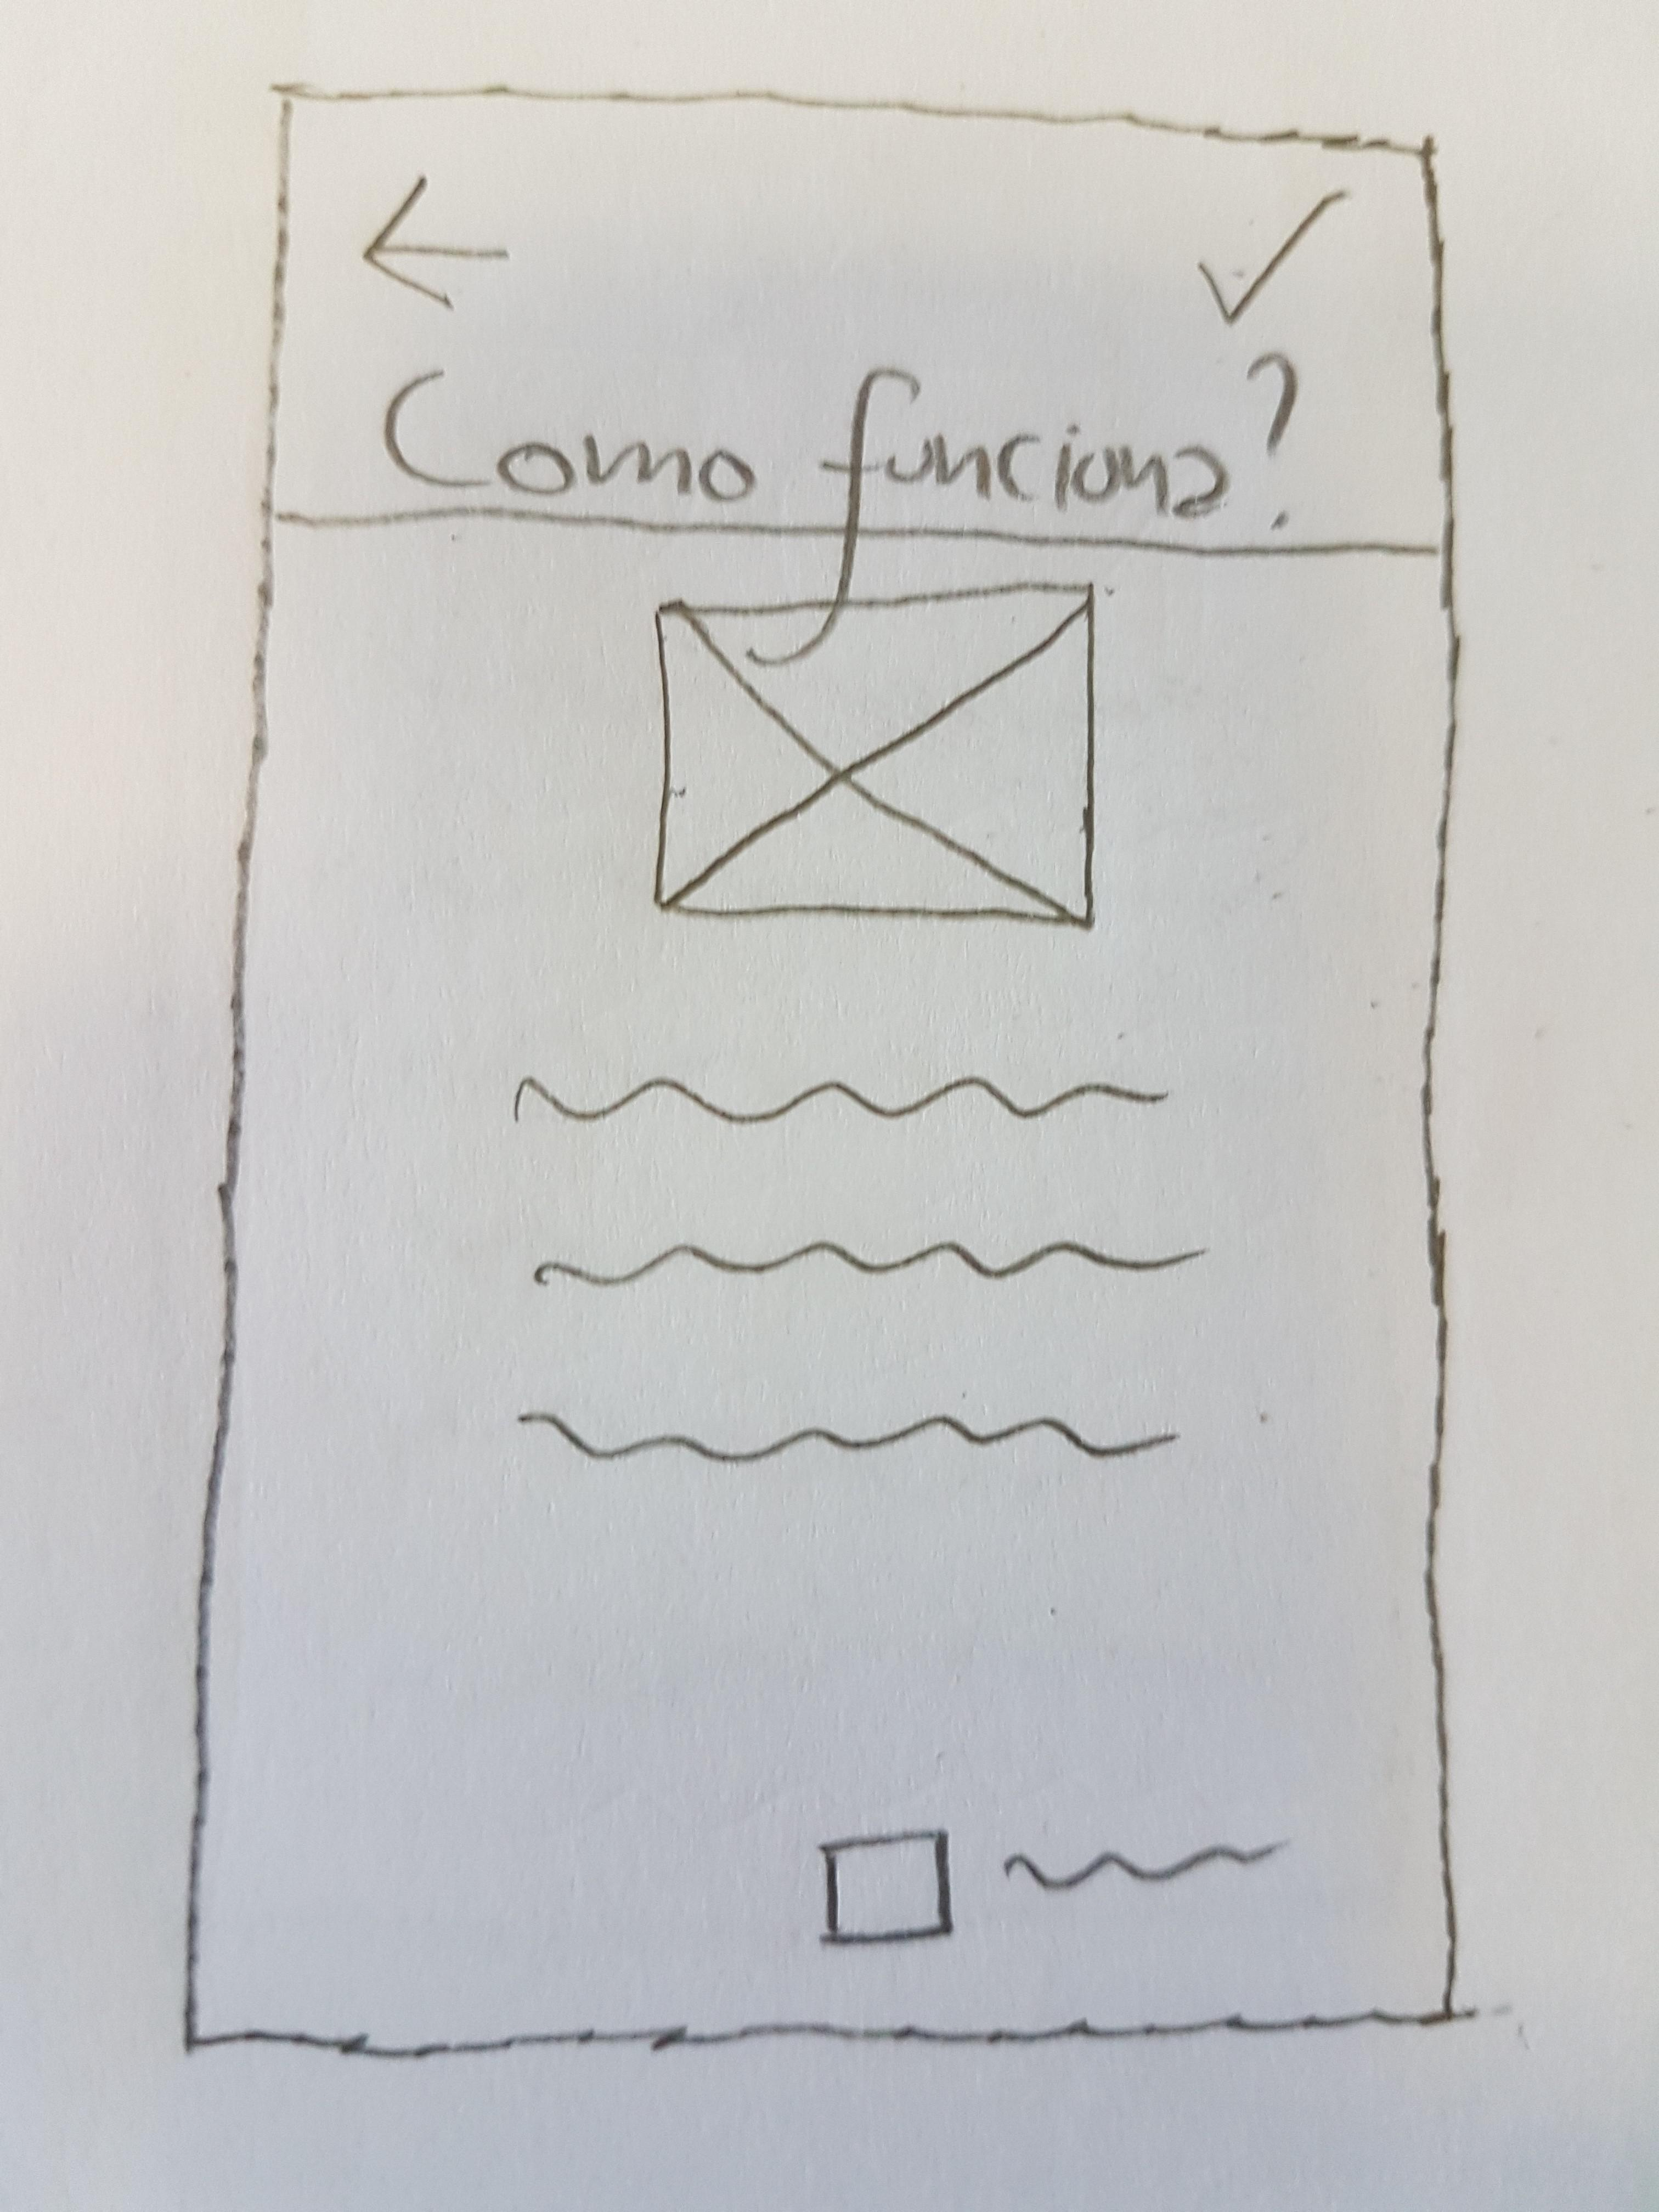Button: (347, 165, 521, 312), (1194, 183, 1358, 329)
CheckBox: (812, 1824, 1293, 1954)
Image: (645, 583, 1098, 925)
Label: (509, 1064, 1208, 1467), (385, 340, 1298, 538)
Screen: (174, 84, 1462, 2055)
